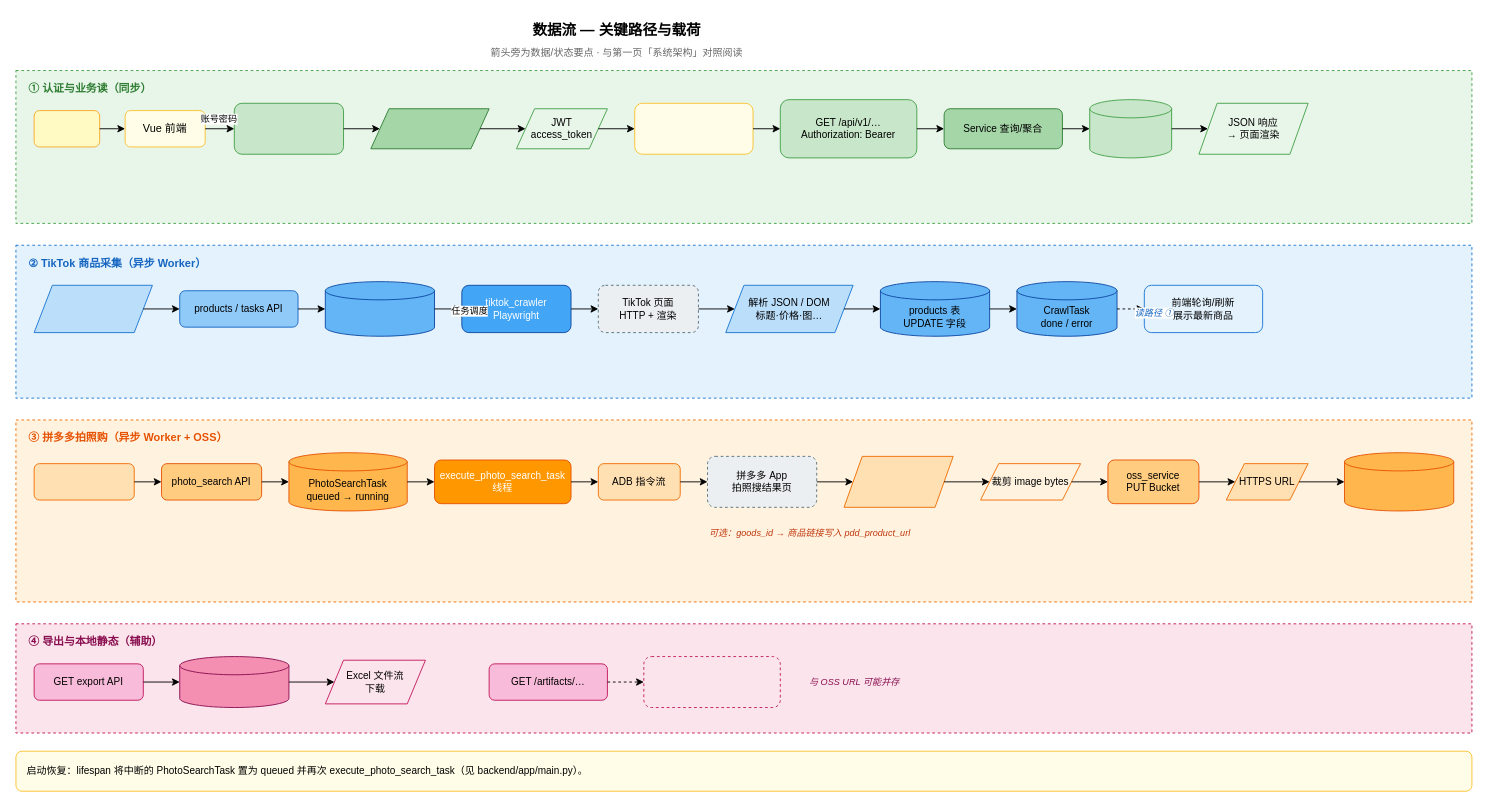
The diagram is 1488 pixels wide and 807 high, and some of its shapes have lost their labels. Each missing label, with the centre of its shape:
"CrawlTask 状态 queued/running" goes at (379,308).
"MySQL SELECT" goes at (1130,128).
"pdd_matches pdd_image_url 等" goes at (1399,481).
"Pinia 存储 Token 后续请求 Header" goes at (693,128).
"POST /auth/login" goes at (288,128).
"users 表 bcrypt 校验" goes at (429,128).
"创建拍照购任务" goes at (83,481).
"截图 / UI 解析 candidates[]" goes at (898,481).
"本机 artifacts 目录 （历史截图路径）" goes at (711,682).
"浏览器" goes at (66,128).
"聚合查询 MySQL" goes at (234,682).
"运营导入 TikTok 商品 URL" goes at (92,308).
